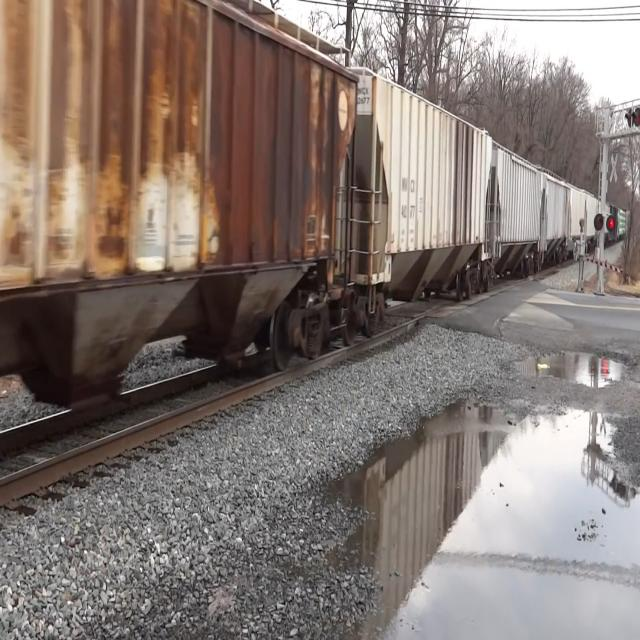hopper: (0, 0, 353, 412), (354, 55, 496, 342)
